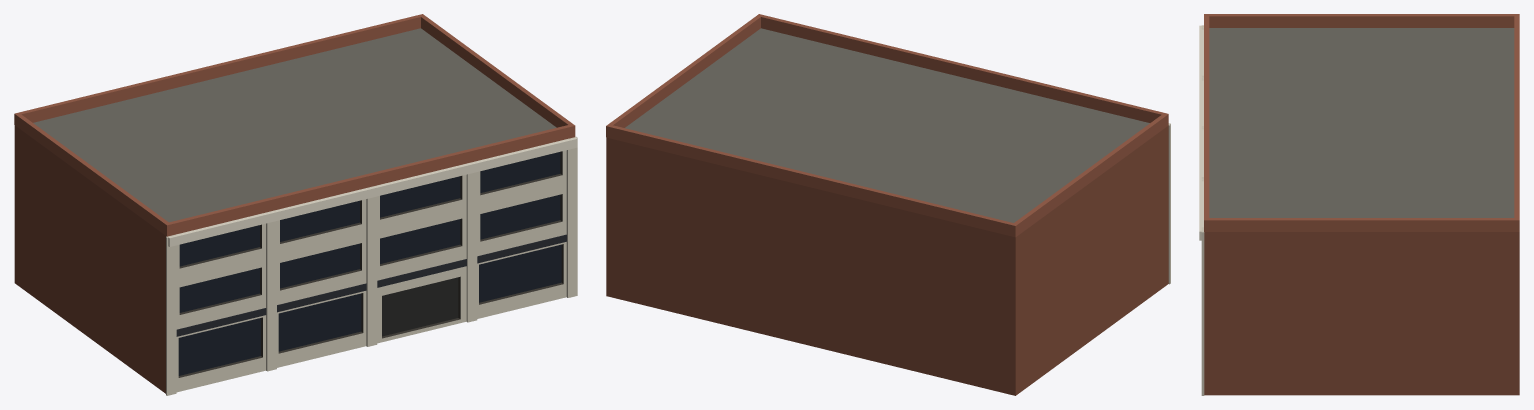
File: bank-1913-b13405.glb
3 views of the same model, side by side, from view 1: azimuth 30°, elevation 25°; view 2: azimuth 150°, elevation 25°; view 3: azimuth 270°, elevation 25° (orthographic). The views are drawn at different scales.
Parts seen in each view (by area): view 1: kit-bank-1913-b13405; view 2: kit-bank-1913-b13405; view 3: kit-bank-1913-b13405.
Boxes of the visible parts, left/top/right/bottom form: kit-bank-1913-b13405: left=14, top=14, right=577, bottom=395; kit-bank-1913-b13405: left=606, top=14, right=1170, bottom=395; kit-bank-1913-b13405: left=1199, top=14, right=1519, bottom=395.
Size of the model in its own units: 34.2 by 13.5 by 22.37.
